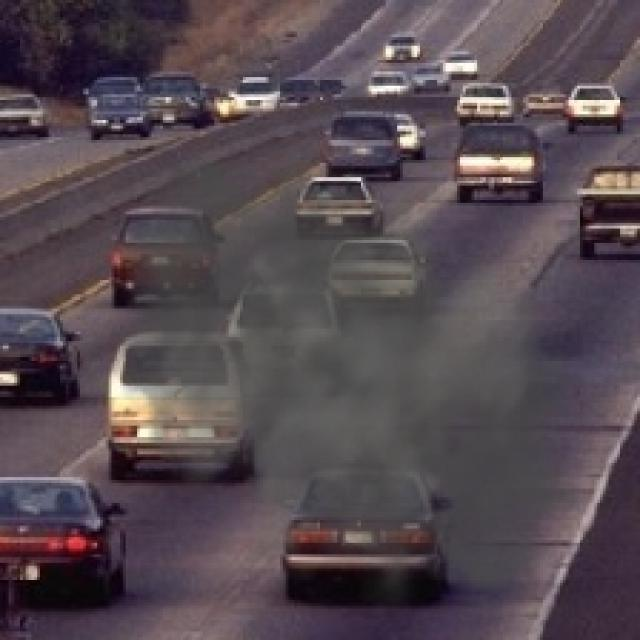Smoke: (69, 117, 620, 632)
